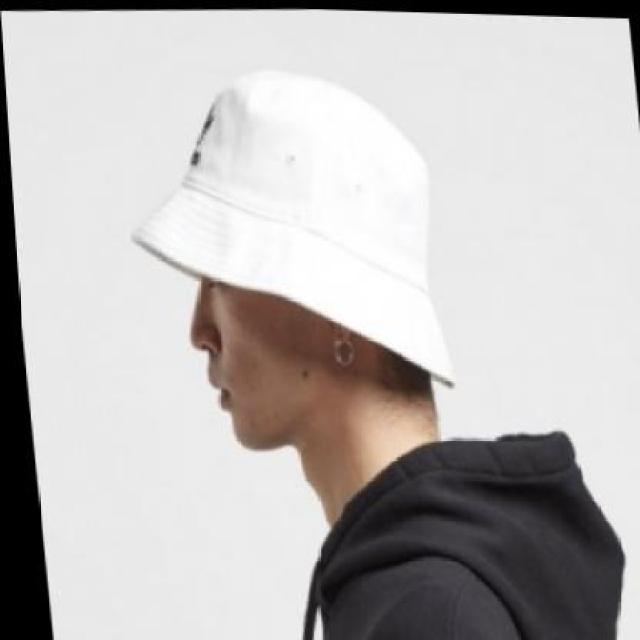hat: (115, 57, 456, 398)
